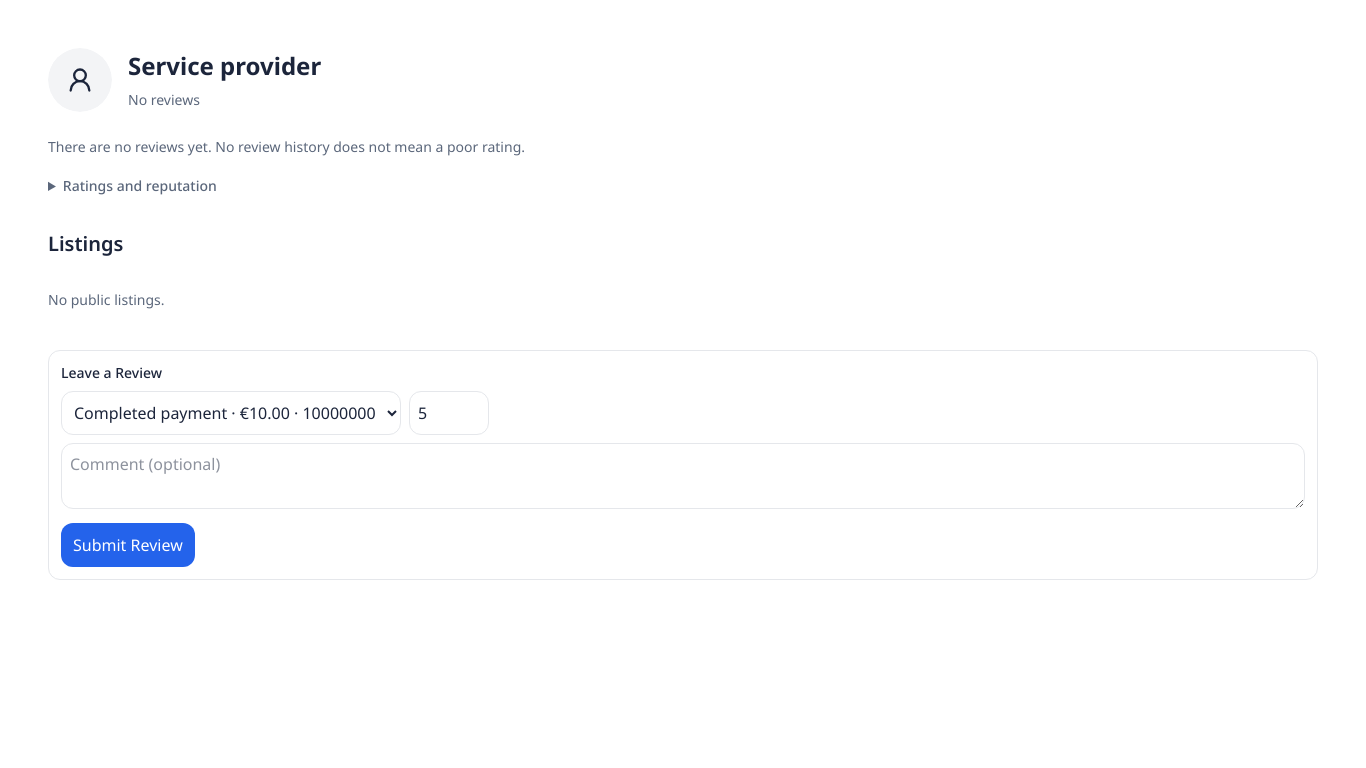
it: Public profile reviews use the actual completed payment › shows a duplicate response without claiming submission succeeded
Click the button "Submit Review": (128, 544) [61,522,195,566]
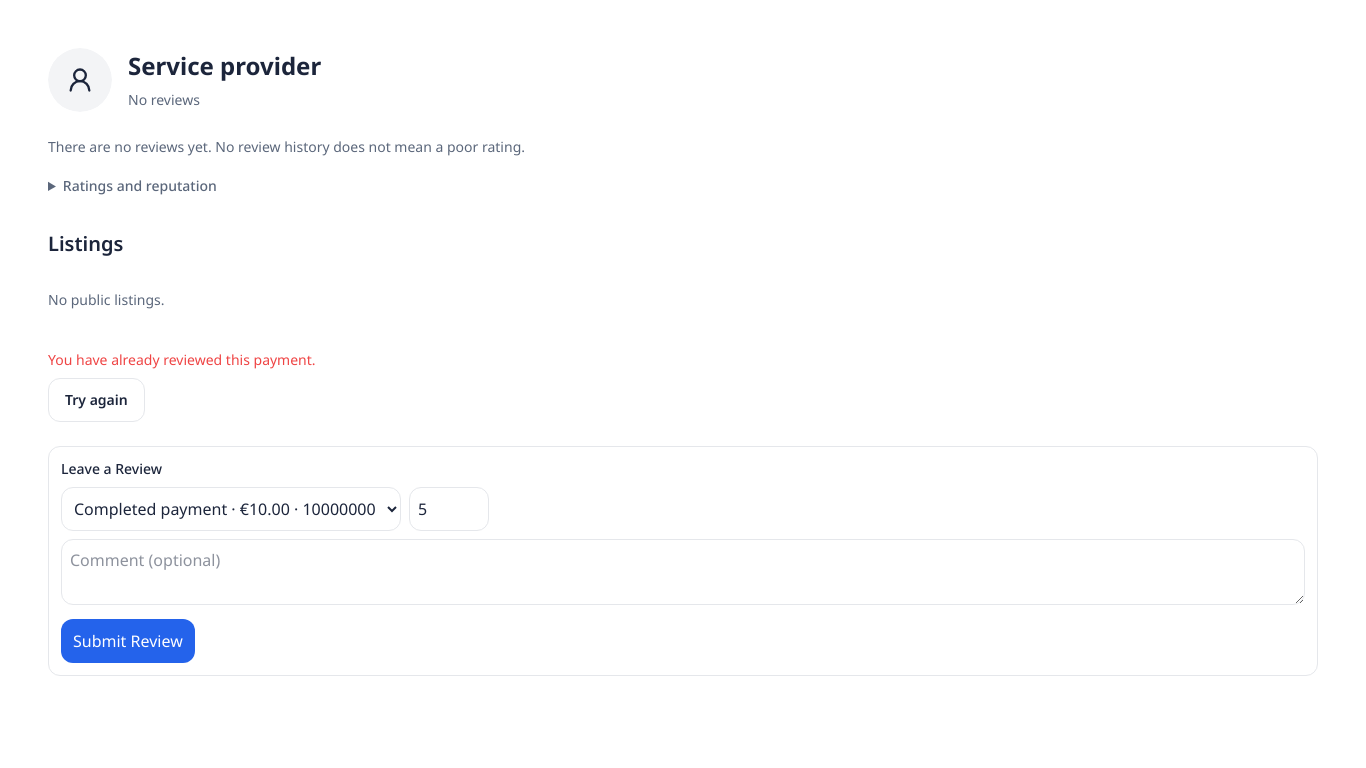
Expected: the button "Submit Review" is enabled, [61,618,195,662]
Now the message shows "already reviewed", box [48,350,316,368]
